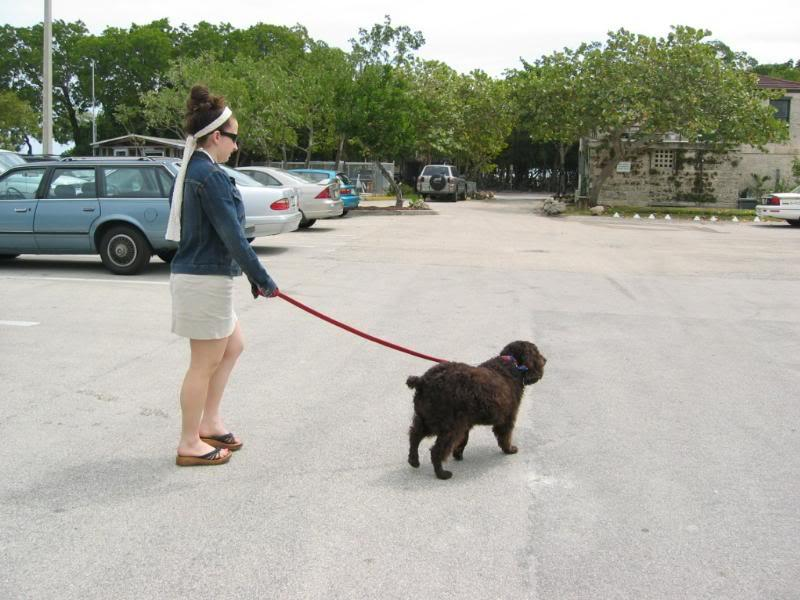person: (171, 87, 278, 463)
